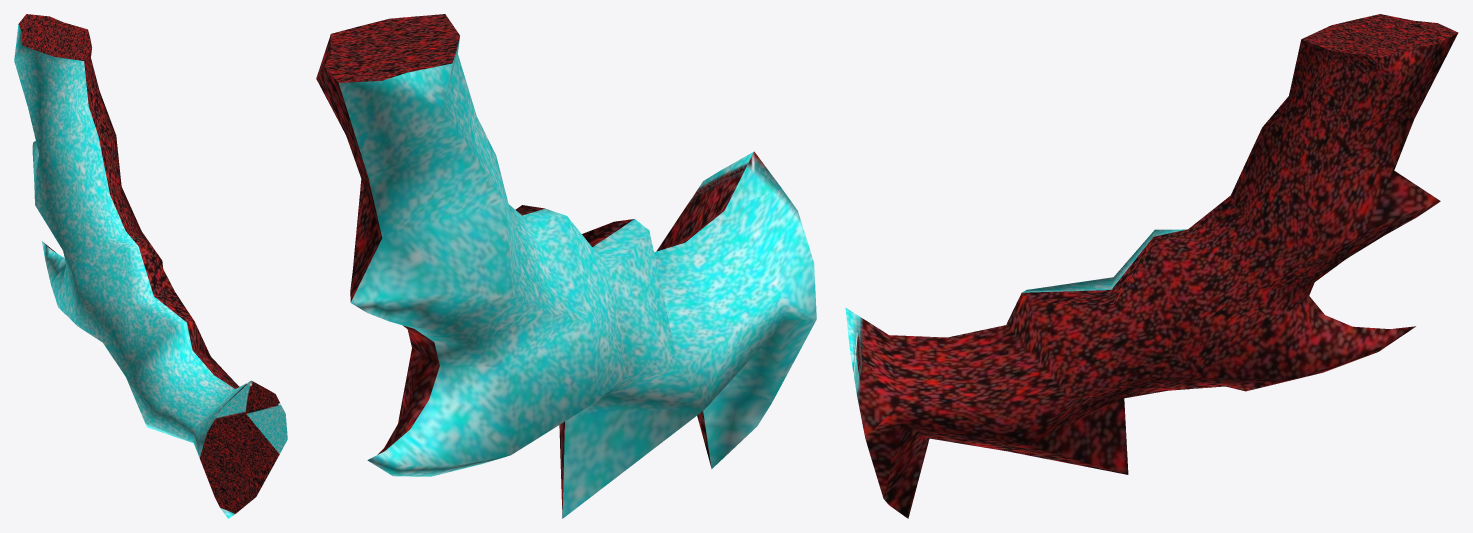
The picture shows the model from 3 angles, left to right: view 1: azimuth 30°, elevation 25°; view 2: azimuth 150°, elevation 25°; view 3: azimuth 270°, elevation 25°; orthographic projection. The views are drawn at different scales.
Visible parts, largest first — view 1: SM_VFX_Chakrams_Kothaar_1H_01_Part2_LOD0; view 2: SM_VFX_Chakrams_Kothaar_1H_01_Part2_LOD0; view 3: SM_VFX_Chakrams_Kothaar_1H_01_Part2_LOD0.
Part boxes in pixels (<box>): SM_VFX_Chakrams_Kothaar_1H_01_Part2_LOD0: <box>14,14,287,518</box>; SM_VFX_Chakrams_Kothaar_1H_01_Part2_LOD0: <box>316,14,816,518</box>; SM_VFX_Chakrams_Kothaar_1H_01_Part2_LOD0: <box>845,14,1458,518</box>.
Size of the model in its own units: 0.0496 by 0.1892 by 0.2161.
Materials: 1 (1 with a texture image).
